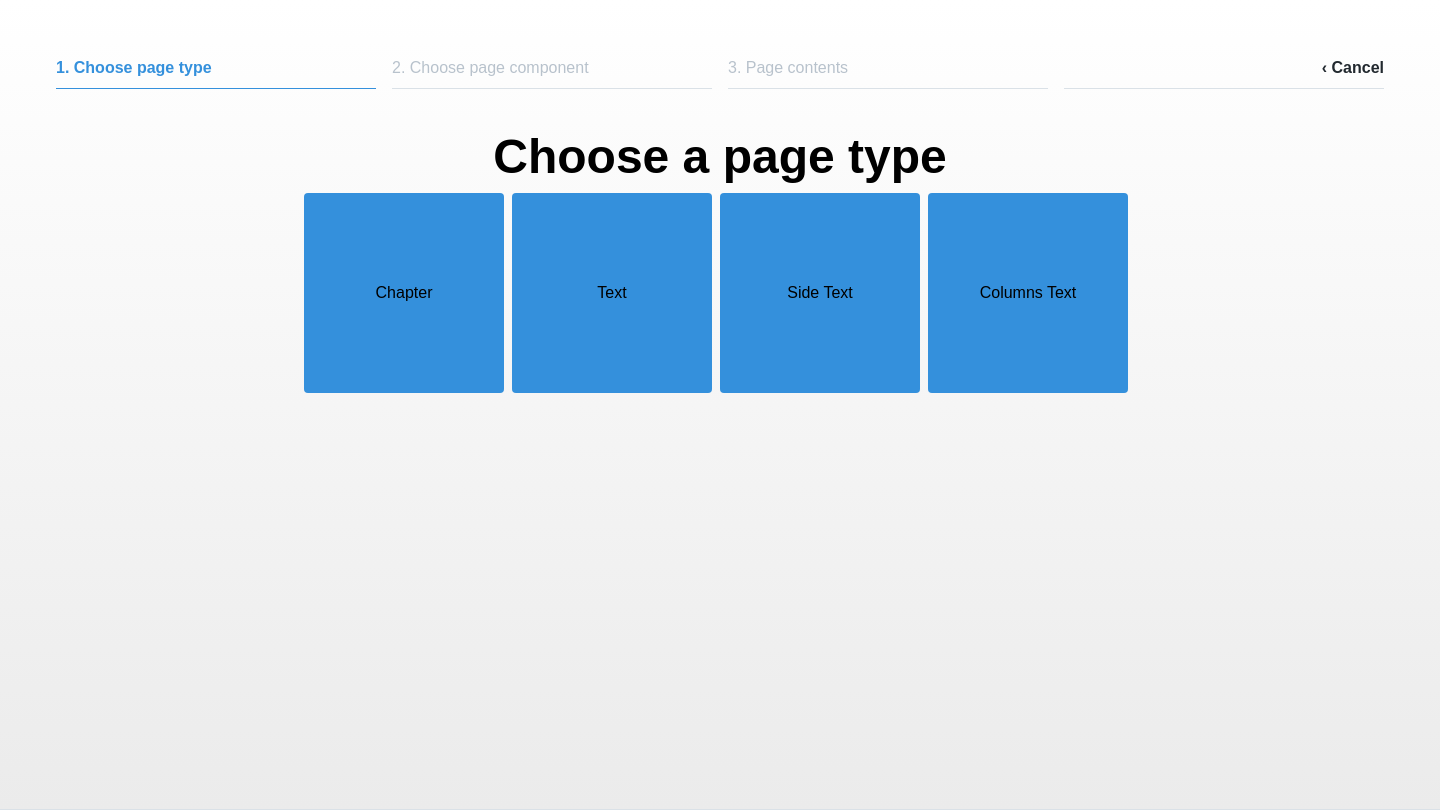
Test case: PageSteps.vue › presents a list of components available for chapter type
Check: the element showing "Choose a page type Chapter Text Side Text Columns Text" is shown, box x1=304 y1=130 x2=1128 y2=393
Click the list item with id "type-chapter" at (404, 293), box x1=304 y1=193 x2=504 y2=393
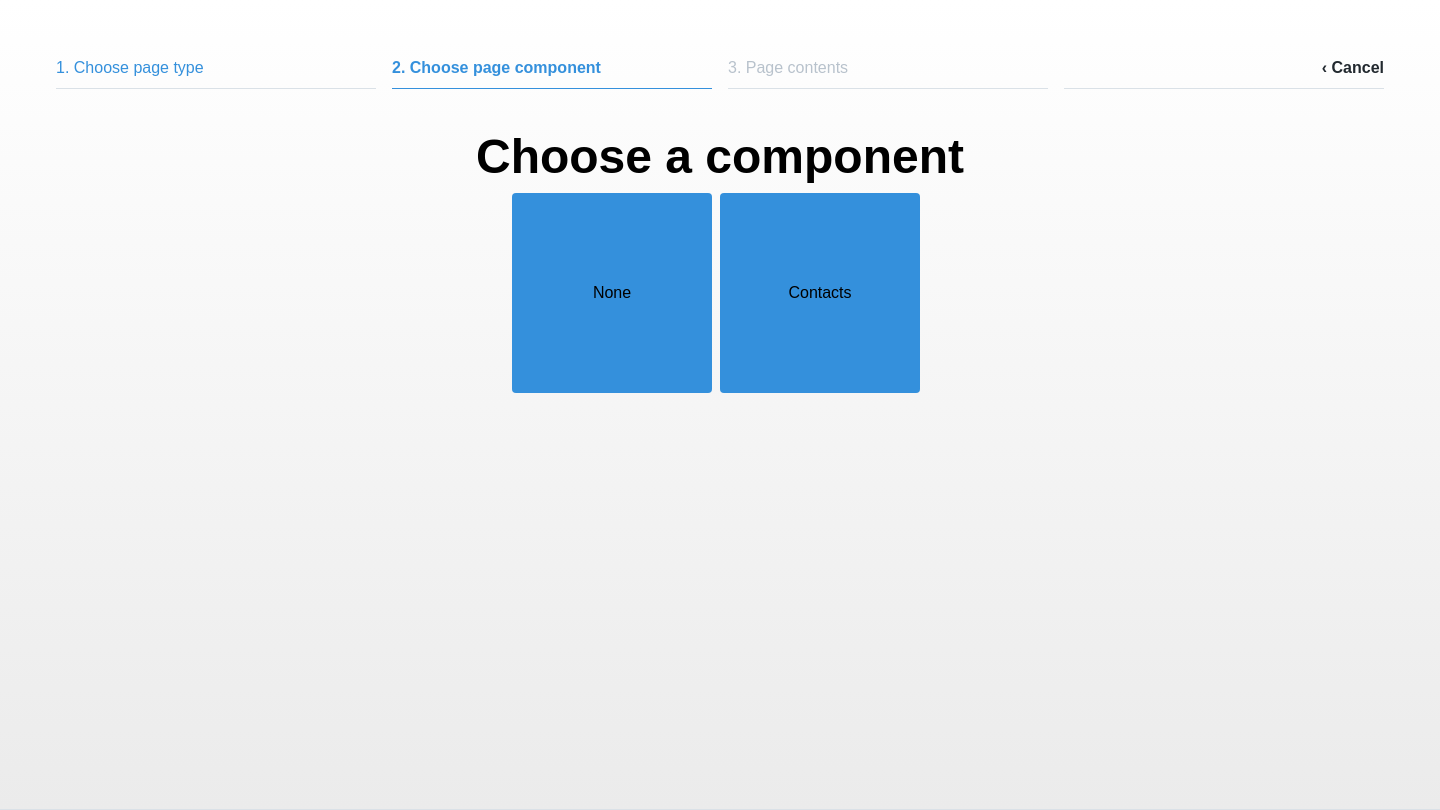
Check: the element showing "Choose a component None Contacts" is shown, box x1=476 y1=130 x2=964 y2=393
Check: the list item with id "component-none" is shown, box x1=512 y1=193 x2=712 y2=393
Check: the list item with id "component-contacts" is shown, box x1=720 y1=193 x2=920 y2=393
